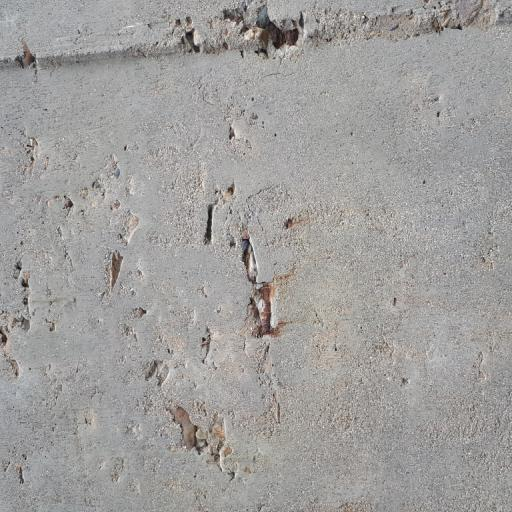exposed_rebar: (252, 285, 271, 335), (267, 21, 299, 48), (204, 204, 214, 245)
